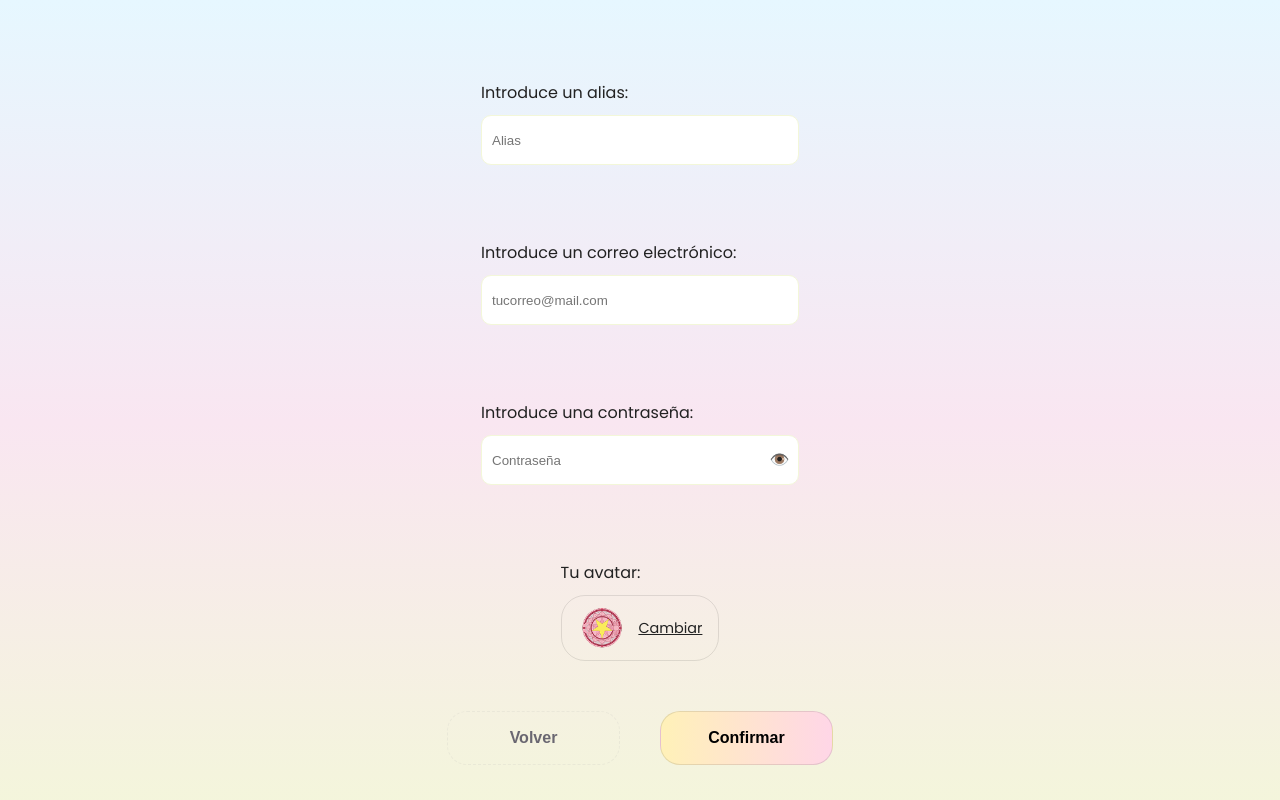
RegForm › muestra un error de validación con un email inválido
Type "NuevaUsuaria" into the field labelled "Introduce un alias:" at (640, 140), box [481,115,799,165]
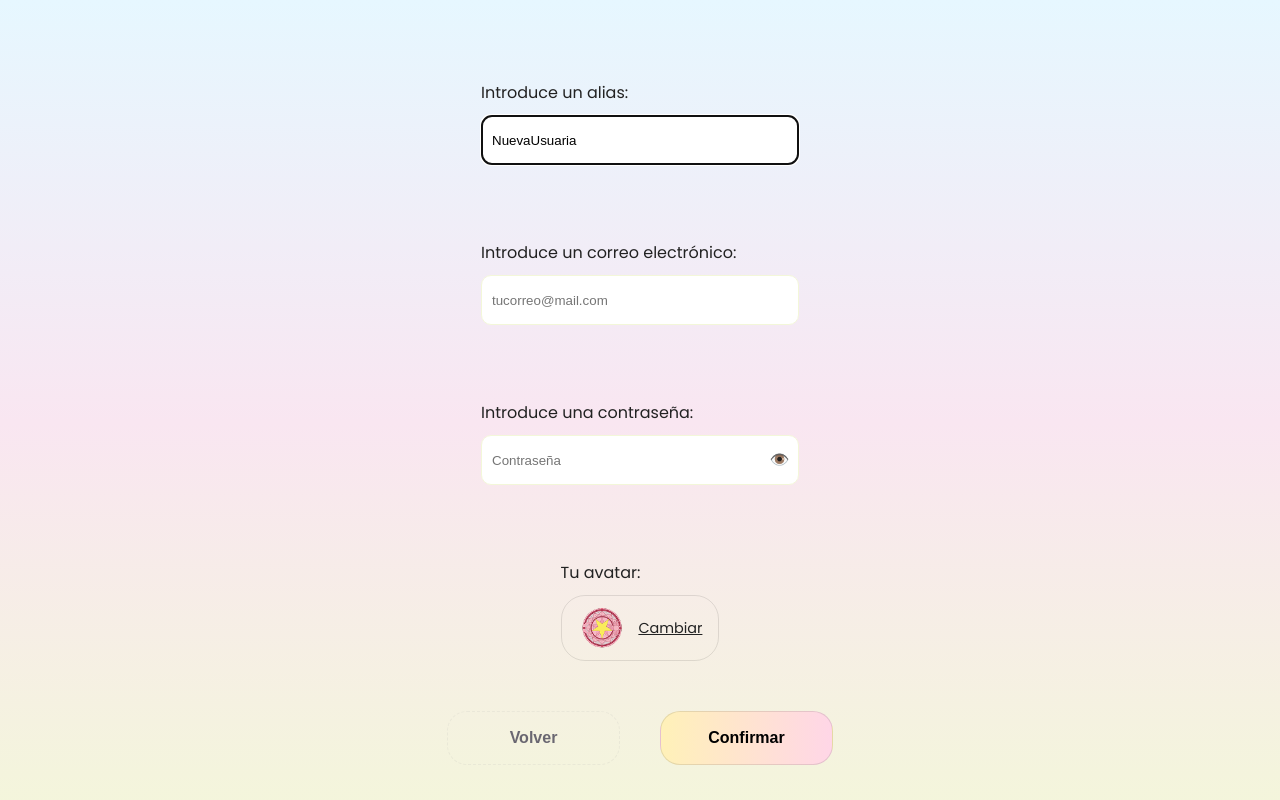
Type "usuario@localhost" into the field labelled "Introduce un correo electrónico:" at (640, 300), box [481,275,799,325]
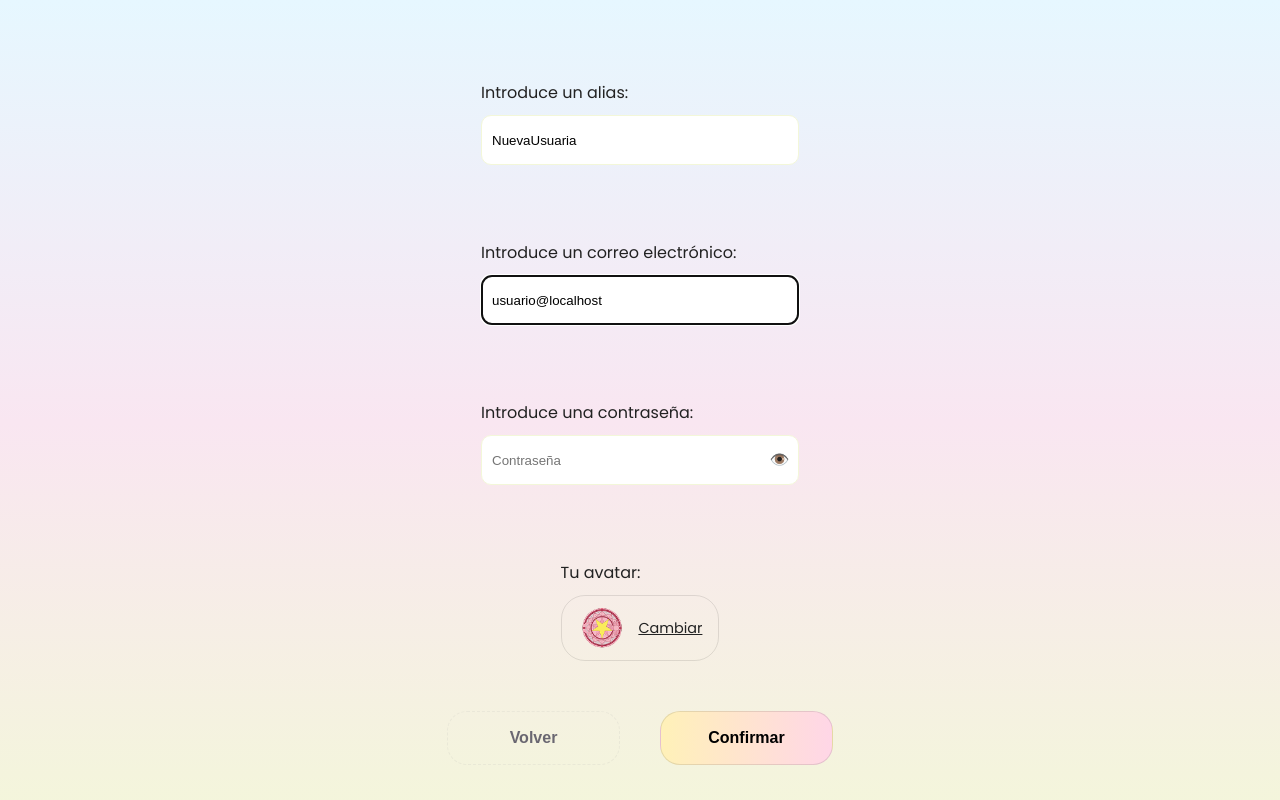
Type "password123" into the password field labelled "Introduce una contraseña:" at (640, 460), box [481,435,799,485]
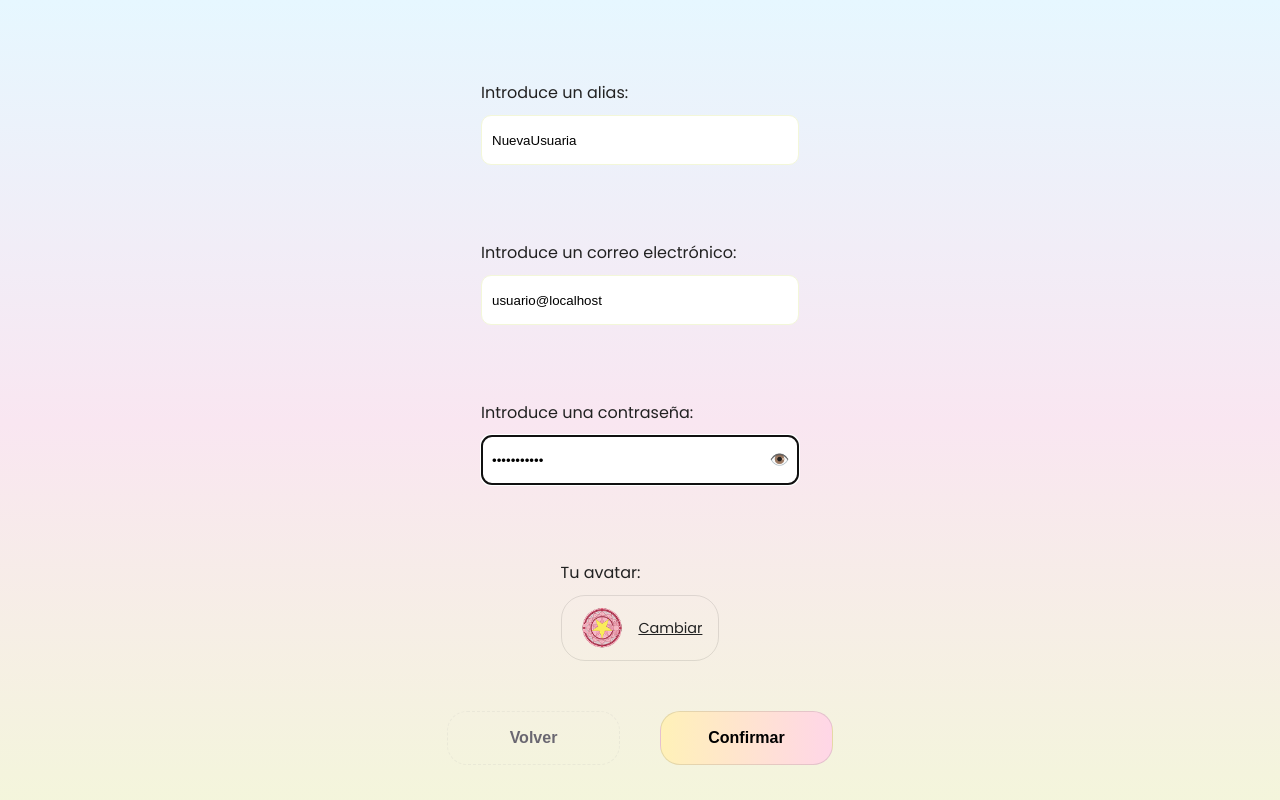
Click the button "Confirmar" at (746, 738), box [660,711,833,765]
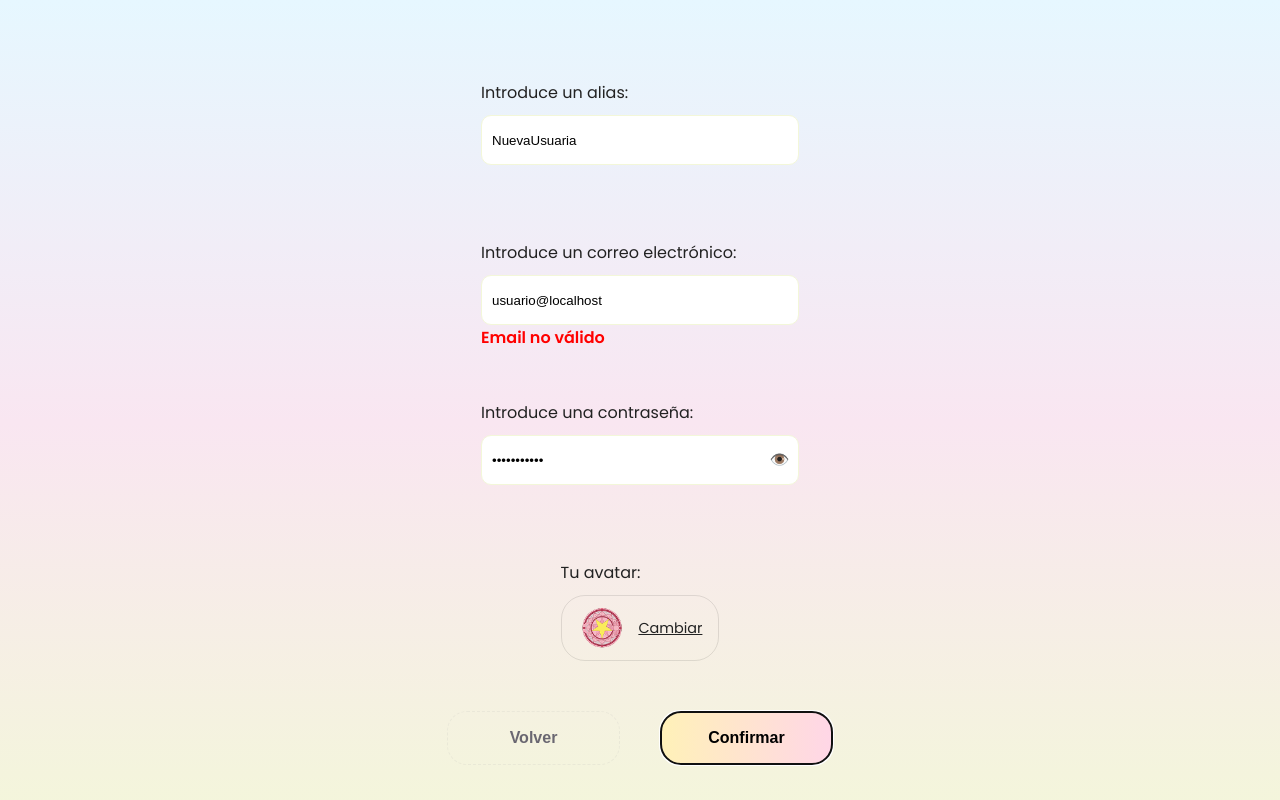
Expected: the text "Email no válido" is shown, [481,326,605,349]
